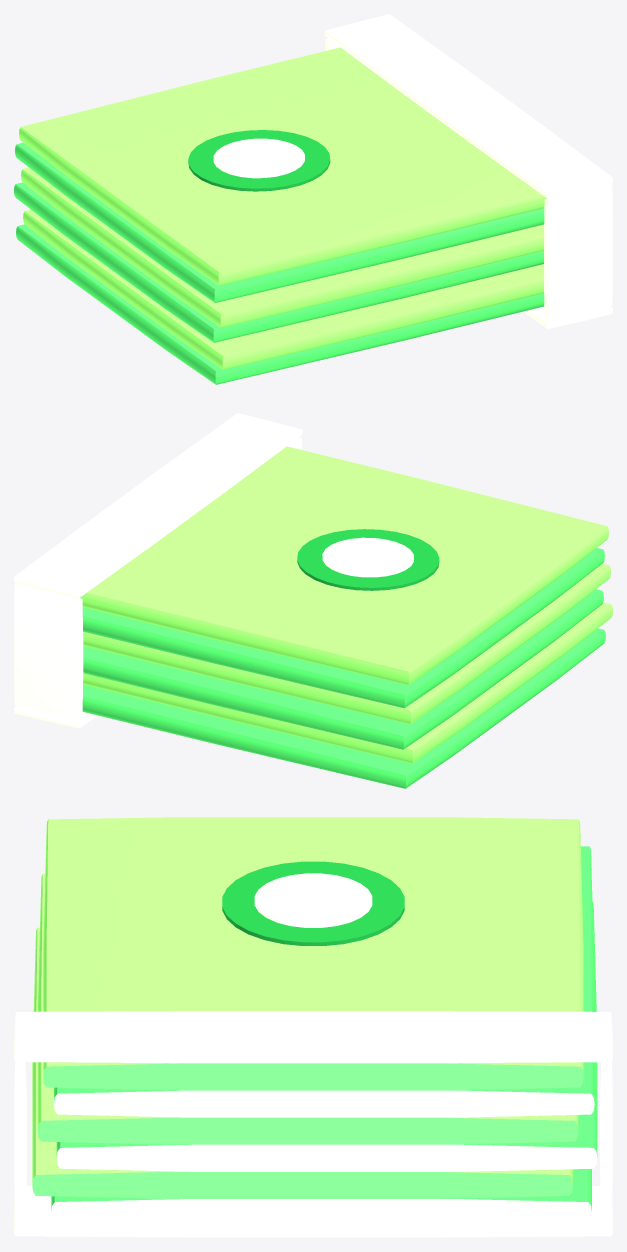
The picture shows the model from 3 angles, top to bottom: view 1: azimuth 30°, elevation 25°; view 2: azimuth 150°, elevation 25°; view 3: azimuth 270°, elevation 25°; orthographic projection. The views are drawn at different scales.
Parts seen in each view (by area): view 1: Money-left; view 2: Money-left; view 3: Money-left.
Part boxes in pixels (bbox=[...]): Money-left: bbox=[14, 14, 612, 384]; Money-left: bbox=[14, 413, 612, 788]; Money-left: bbox=[14, 817, 612, 1237].
Size of the model in its own units: 0.4583 by 0.1583 by 0.4625.
